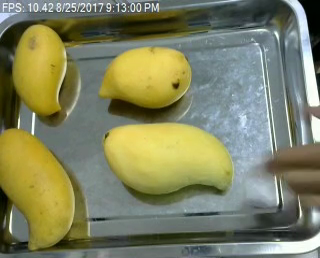Mango: (103, 121, 235, 199), (0, 126, 78, 251), (96, 41, 192, 108), (10, 21, 69, 116)
